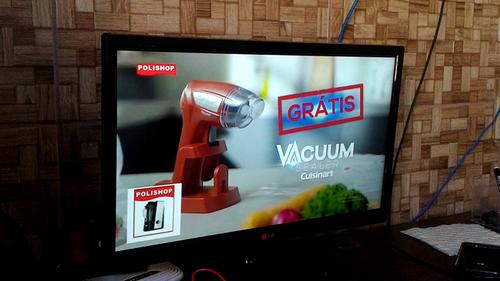Polishop #1: (126, 182, 181, 243)
